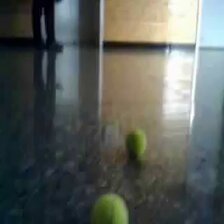tennis: (89, 192, 128, 224), (125, 131, 146, 157)
